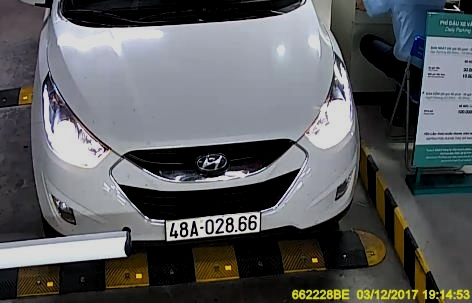plate: (163, 213, 261, 240)
